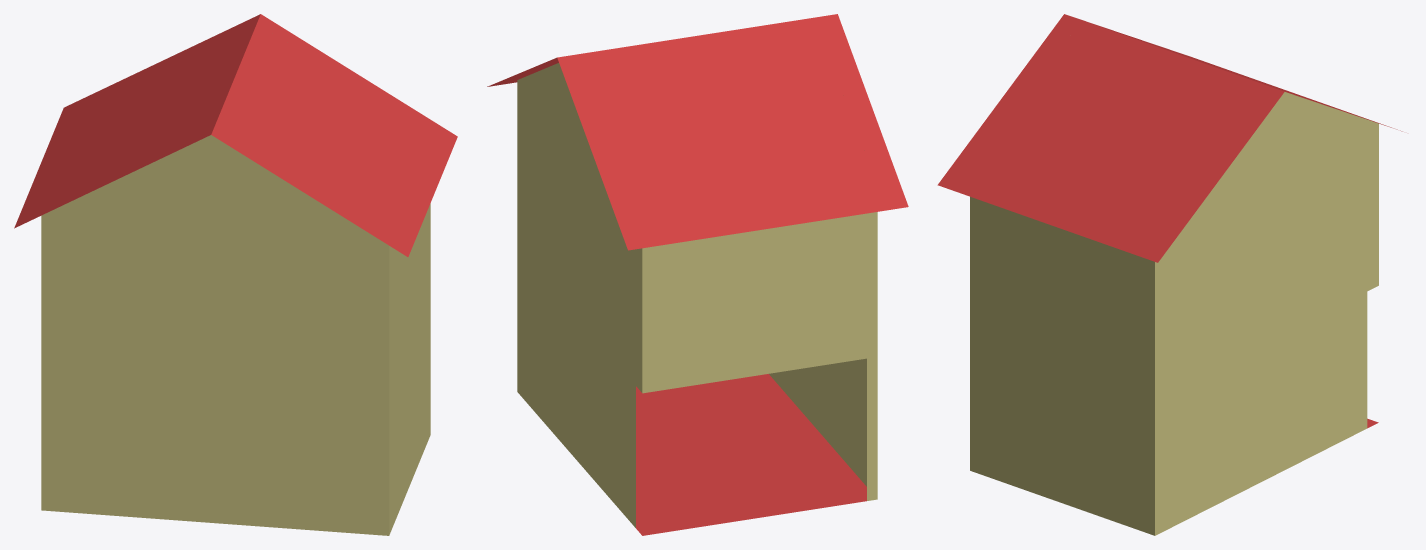
3 renders of one model, left to right at view 1: azimuth 30°, elevation 25°; view 2: azimuth 150°, elevation 25°; view 3: azimuth 270°, elevation 25°, orthographic. The views are drawn at different scales.
Parts seen in each view (by area): view 1: group_5, group_3, group_4; view 2: group_5, group_3, group_6, group_4; view 3: group_5, group_3, group_4.
Part boxes in pixels (x1=…): group_5: x1=41, y1=135, x2=430, y2=535; group_3: x1=41, y1=14, x2=457, y2=256; group_4: x1=14, y1=14, x2=305, y2=228; group_5: x1=517, y1=63, x2=877, y2=527; group_3: x1=557, y1=14, x2=877, y2=250; group_6: x1=636, y1=374, x2=866, y2=535; group_4: x1=487, y1=14, x2=908, y2=250; group_5: x1=970, y1=92, x2=1378, y2=535; group_3: x1=937, y1=15, x2=1401, y2=262; group_4: x1=1024, y1=14, x2=1363, y2=128.
Bounding box in the file's own units: 15.78 × 15.34 × 14.06.
